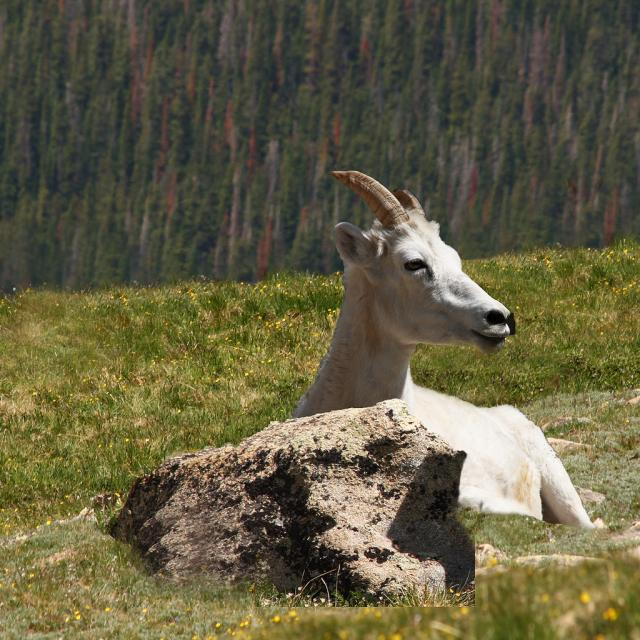Goat: (289, 168, 602, 531)
